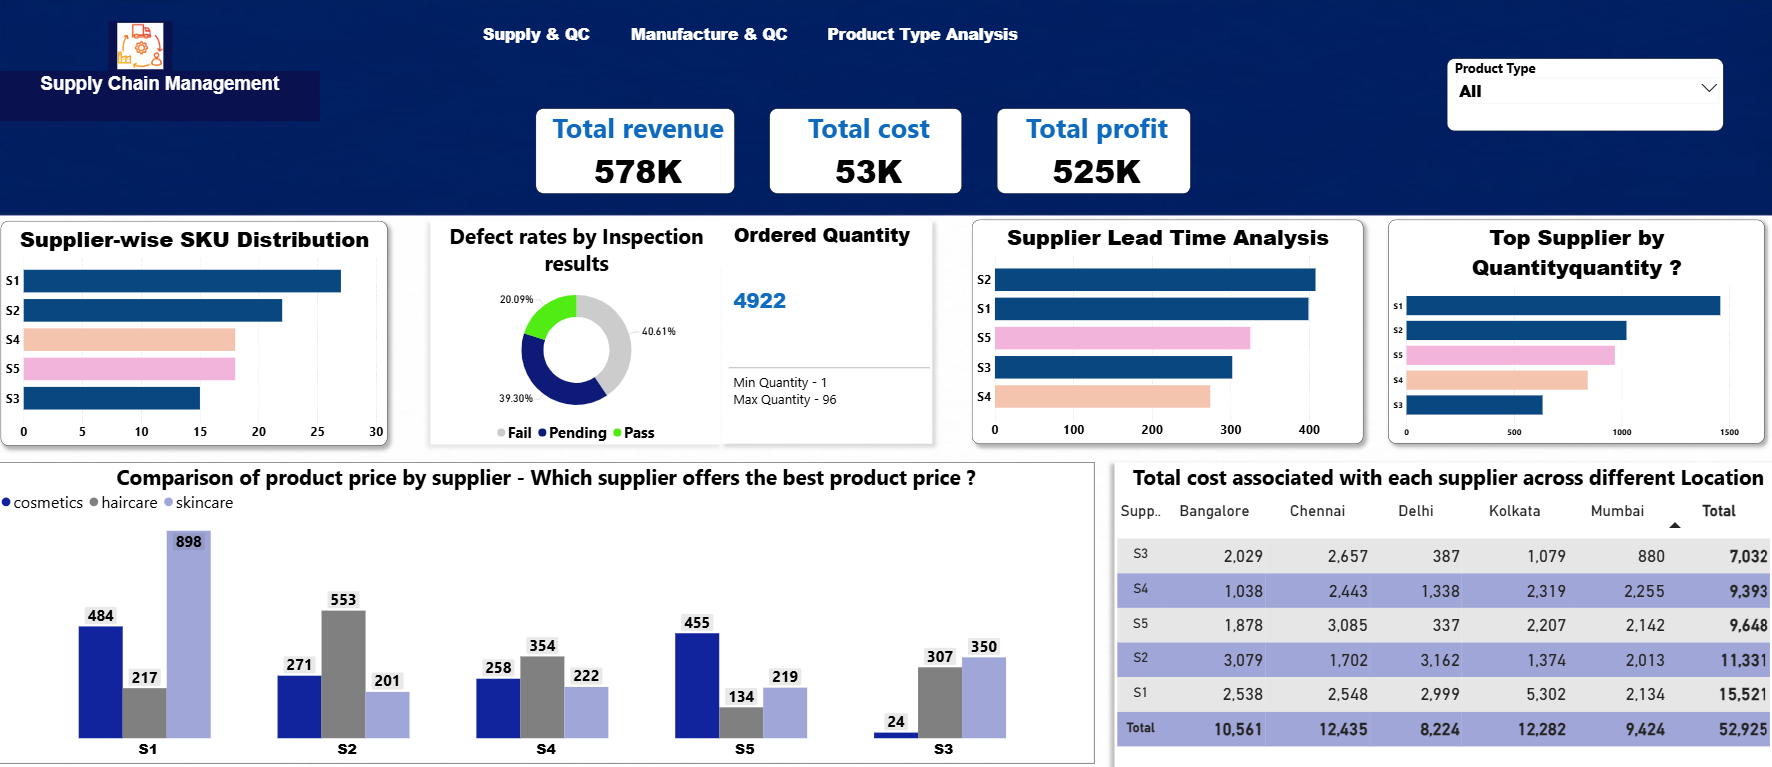

What the dashboard file says about the page in this screenshot:
{"tool":"powerbi","page":{"name":"Page 1","canvas":[4580,2000],"ordinal":0},"visuals":[{"type":"cardVisual","title":"Total revenue","fields":{"Data":["supply_chain_data.Total Revenue"]},"box":[1384.7,289.1,510.8,218.5],"z":0},{"type":"cardVisual","title":"Total cost","fields":{"Data":["supply_chain_data.Total Cost"]},"box":[1985.4,289.1,494.8,218.5],"z":1000},{"type":"image","box":[286.3,64.4,164.6,128.9],"z":3000},{"type":"textbox","box":[7.2,193.3,823.2,128.9],"z":4000},{"type":"donutChart","title":"Defect rates by Inspection results","fields":{"Y":["Avg(supply_chain_data.Defect rates)"],"Category":["supply_chain_data.Inspection results"]},"box":[1115.1,577.8,747.4,573.7],"z":5000},{"type":"clusteredBarChart","title":"Supplier-wise SKU Distribution","fields":{"Category":["supply_chain_data.Supplier name"],"Y":["CountNonNull(supply_chain_data.SKU)"]},"box":[8.1,577.8,993.9,577.8],"z":6000},{"type":"clusteredColumnChart","title":"Comparison of product price by supplier - Which supplier offers the best product price ?","fields":{"Category":["supply_chain_data.Supplier name"],"Y":["Sum(supply_chain_data.Price)"],"Series":["supply_chain_data.Product type"]},"box":[0,1198.3,2820.7,774.3],"z":8000},{"type":"cardVisual","title":"Ordered Quantity","fields":{"Data":["Sum(supply_chain_data.Order quantities)"]},"box":[1863.4,578.3,539.7,571.9],"z":9000},{"type":"textbox","box":[1861.2,576.3,519,125.3],"z":10000},{"type":"clusteredBarChart","title":"Top Supplier by Quantityquantity ?","fields":{"Category":["supply_chain_data.Supplier name"],"Y":["Sum(supply_chain_data.Order Quantity)"]},"box":[3575.7,575.1,967,575.1],"z":11000},{"type":"pivotTable","title":"Total cost associated with each supplier across different Location","fields":{"Rows":["supply_chain_data.Supplier name"],"Columns":["supply_chain_data.Location"],"Values":["supply_chain_data.Total Cost"]},"box":[2870.6,1199.1,1710.9,801.8],"z":12000},{"type":"barChart","title":"Supplier Lead Time Analysis","fields":{"Y":["Sum(supply_chain_data.Lead time)"],"Category":["supply_chain_data.Supp..."]},"box":[2505.5,576.3,1005.8,576.3],"z":13000},{"type":"cardVisual","title":"Total profit","fields":{"Data":["supply_chain_data.Total Profit"]},"box":[2570.2,289.1,498,218.5],"z":14000},{"type":"actionButton","title":"Supply & QC","box":[1148.9,64.4,472.5,64.4],"z":15000},{"type":"actionButton","box":[1524.8,64.4,608.5,64.4],"z":16000},{"type":"actionButton","box":[2054.5,64.4,651.4,64.4],"z":17000},{"type":"slicer","title":"Product Type","fields":{"Values":["supply_chain_data.Product type"]},"box":[3726.7,160.6,710,186.3],"z":18000}]}

Visuals, with their boxes in screenshot pixels (x1, y1, x2, y2), scaled from the page's 4580x2000 canvas onto the 1772x767 screenshot:
"Total revenue" cardVisual: l=536, t=111, r=733, b=195
"Total cost" cardVisual: l=768, t=111, r=960, b=195
image: l=111, t=25, r=174, b=74
textbox: l=3, t=74, r=321, b=124
"Defect rates by Inspection results" donutChart: l=431, t=222, r=721, b=442
"Supplier-wise SKU Distribution" clusteredBarChart: l=3, t=222, r=388, b=443
"Comparison of product price by supplier - Which supplier offers the best product price ?" clusteredColumnChart: l=0, t=460, r=1091, b=756
"Ordered Quantity" cardVisual: l=721, t=222, r=930, b=441
textbox: l=720, t=221, r=921, b=269
"Top Supplier by Quantityquantity ?" clusteredBarChart: l=1383, t=221, r=1758, b=441
"Total cost associated with each supplier across different Location" pivotTable: l=1111, t=460, r=1771, b=766
"Supplier Lead Time Analysis" barChart: l=969, t=221, r=1359, b=442
"Total profit" cardVisual: l=994, t=111, r=1187, b=195
"Supply & QC" actionButton: l=445, t=25, r=627, b=49
actionButton: l=590, t=25, r=825, b=49
actionButton: l=795, t=25, r=1047, b=49
"Product Type" slicer: l=1442, t=62, r=1717, b=133
